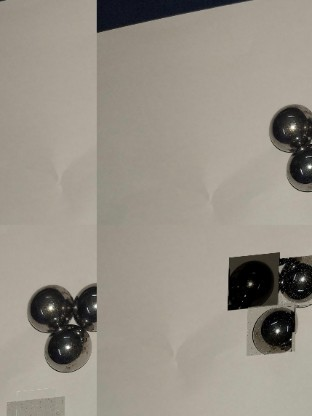ironball: (24, 276, 75, 336), (229, 258, 281, 315), (46, 322, 95, 378), (248, 309, 298, 361), (265, 100, 312, 150), (278, 260, 311, 314), (71, 277, 99, 333), (284, 149, 310, 191)
